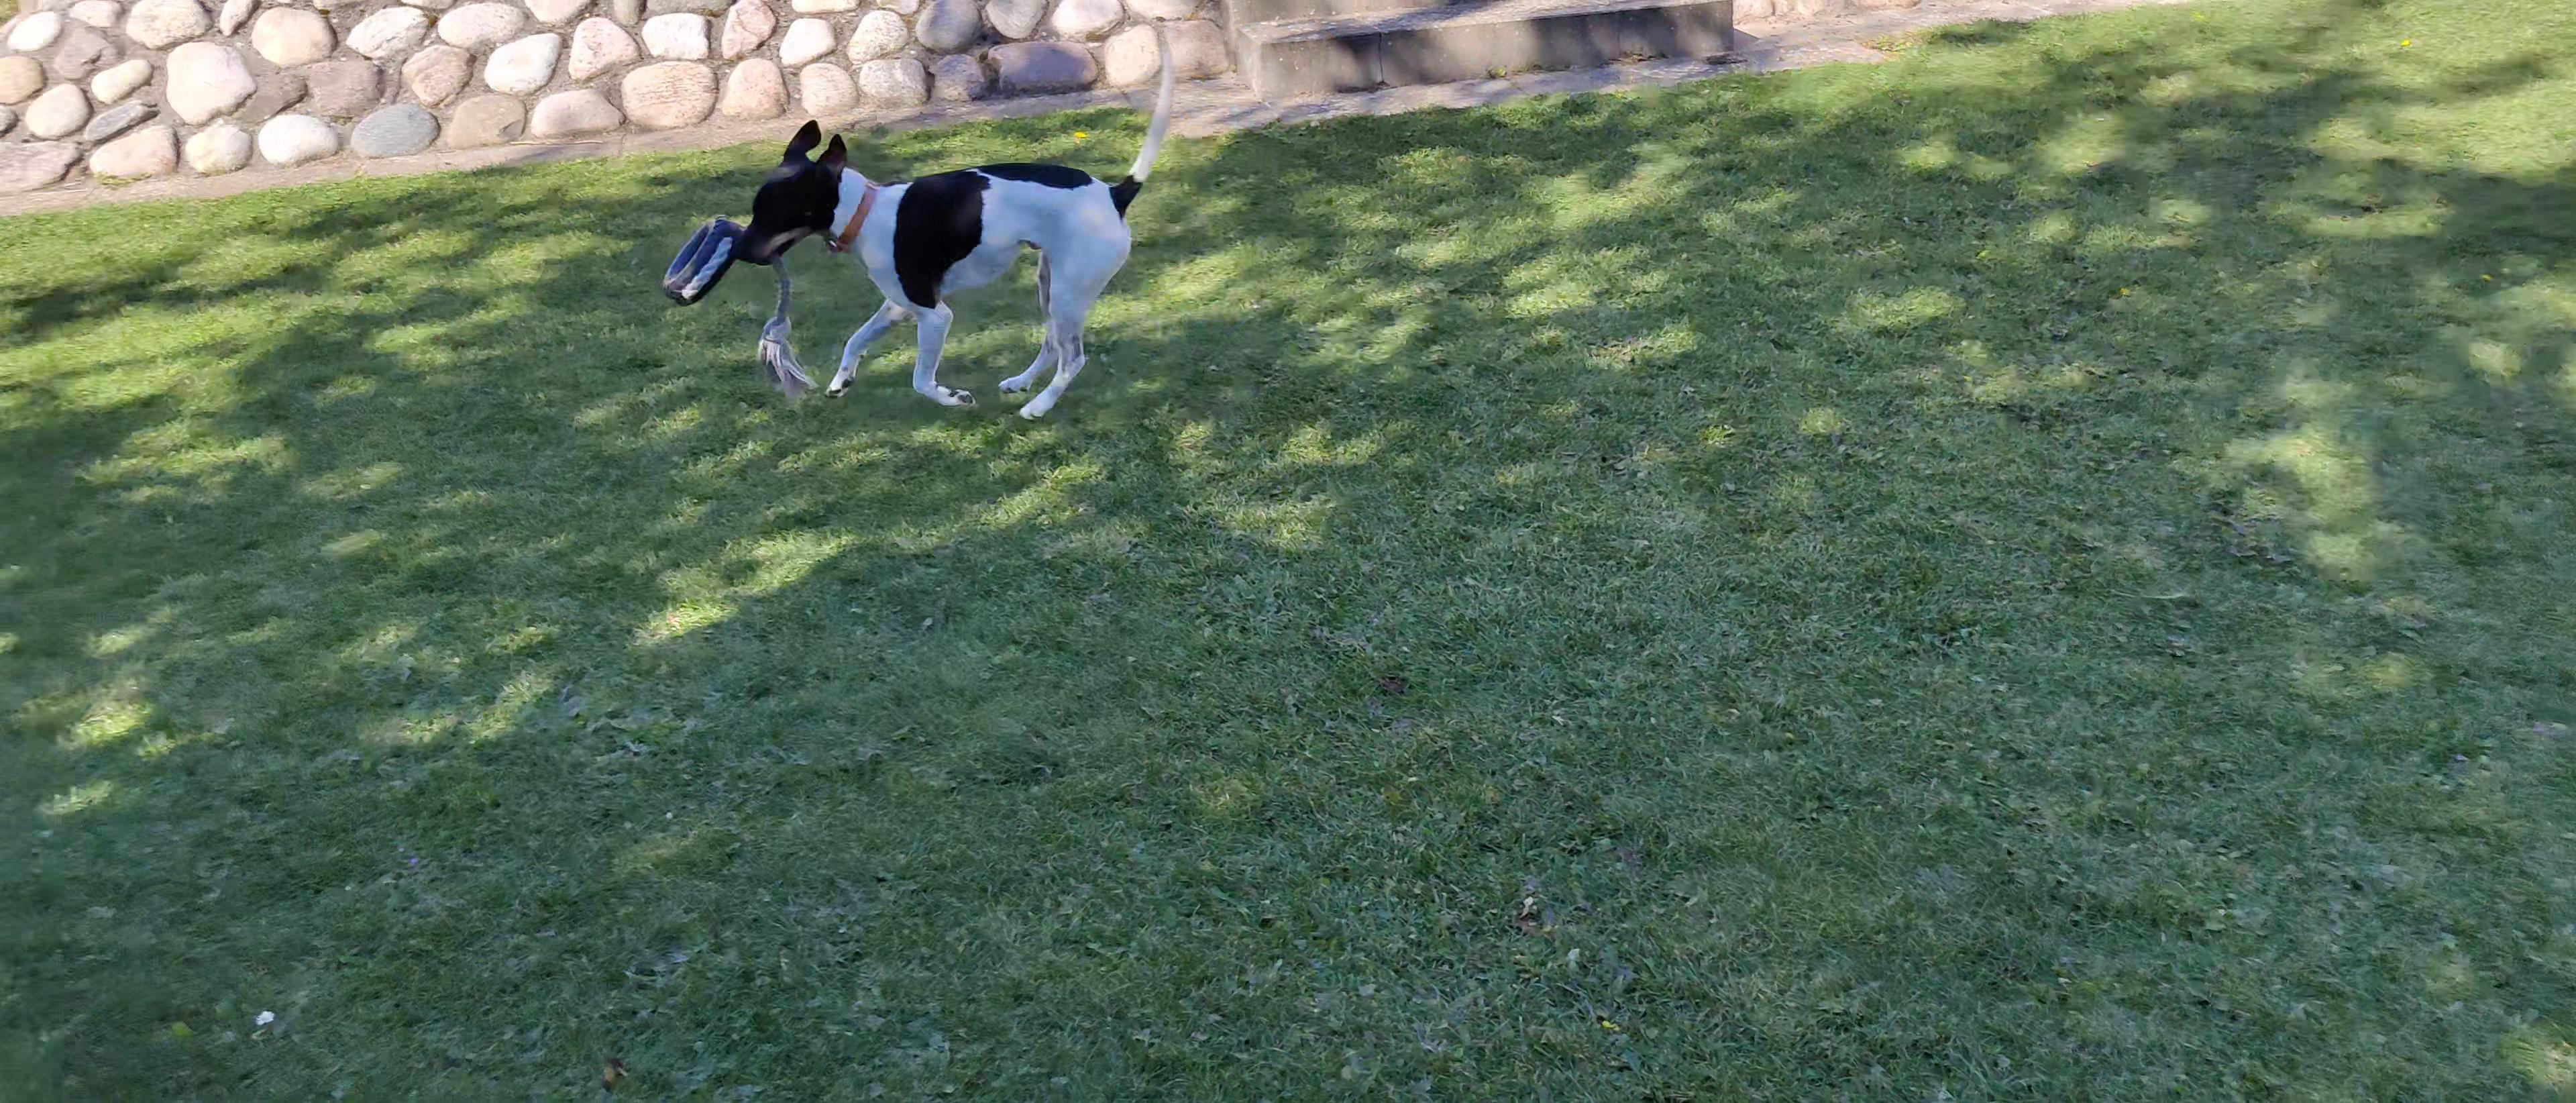Dog: (723, 10, 1184, 422)
